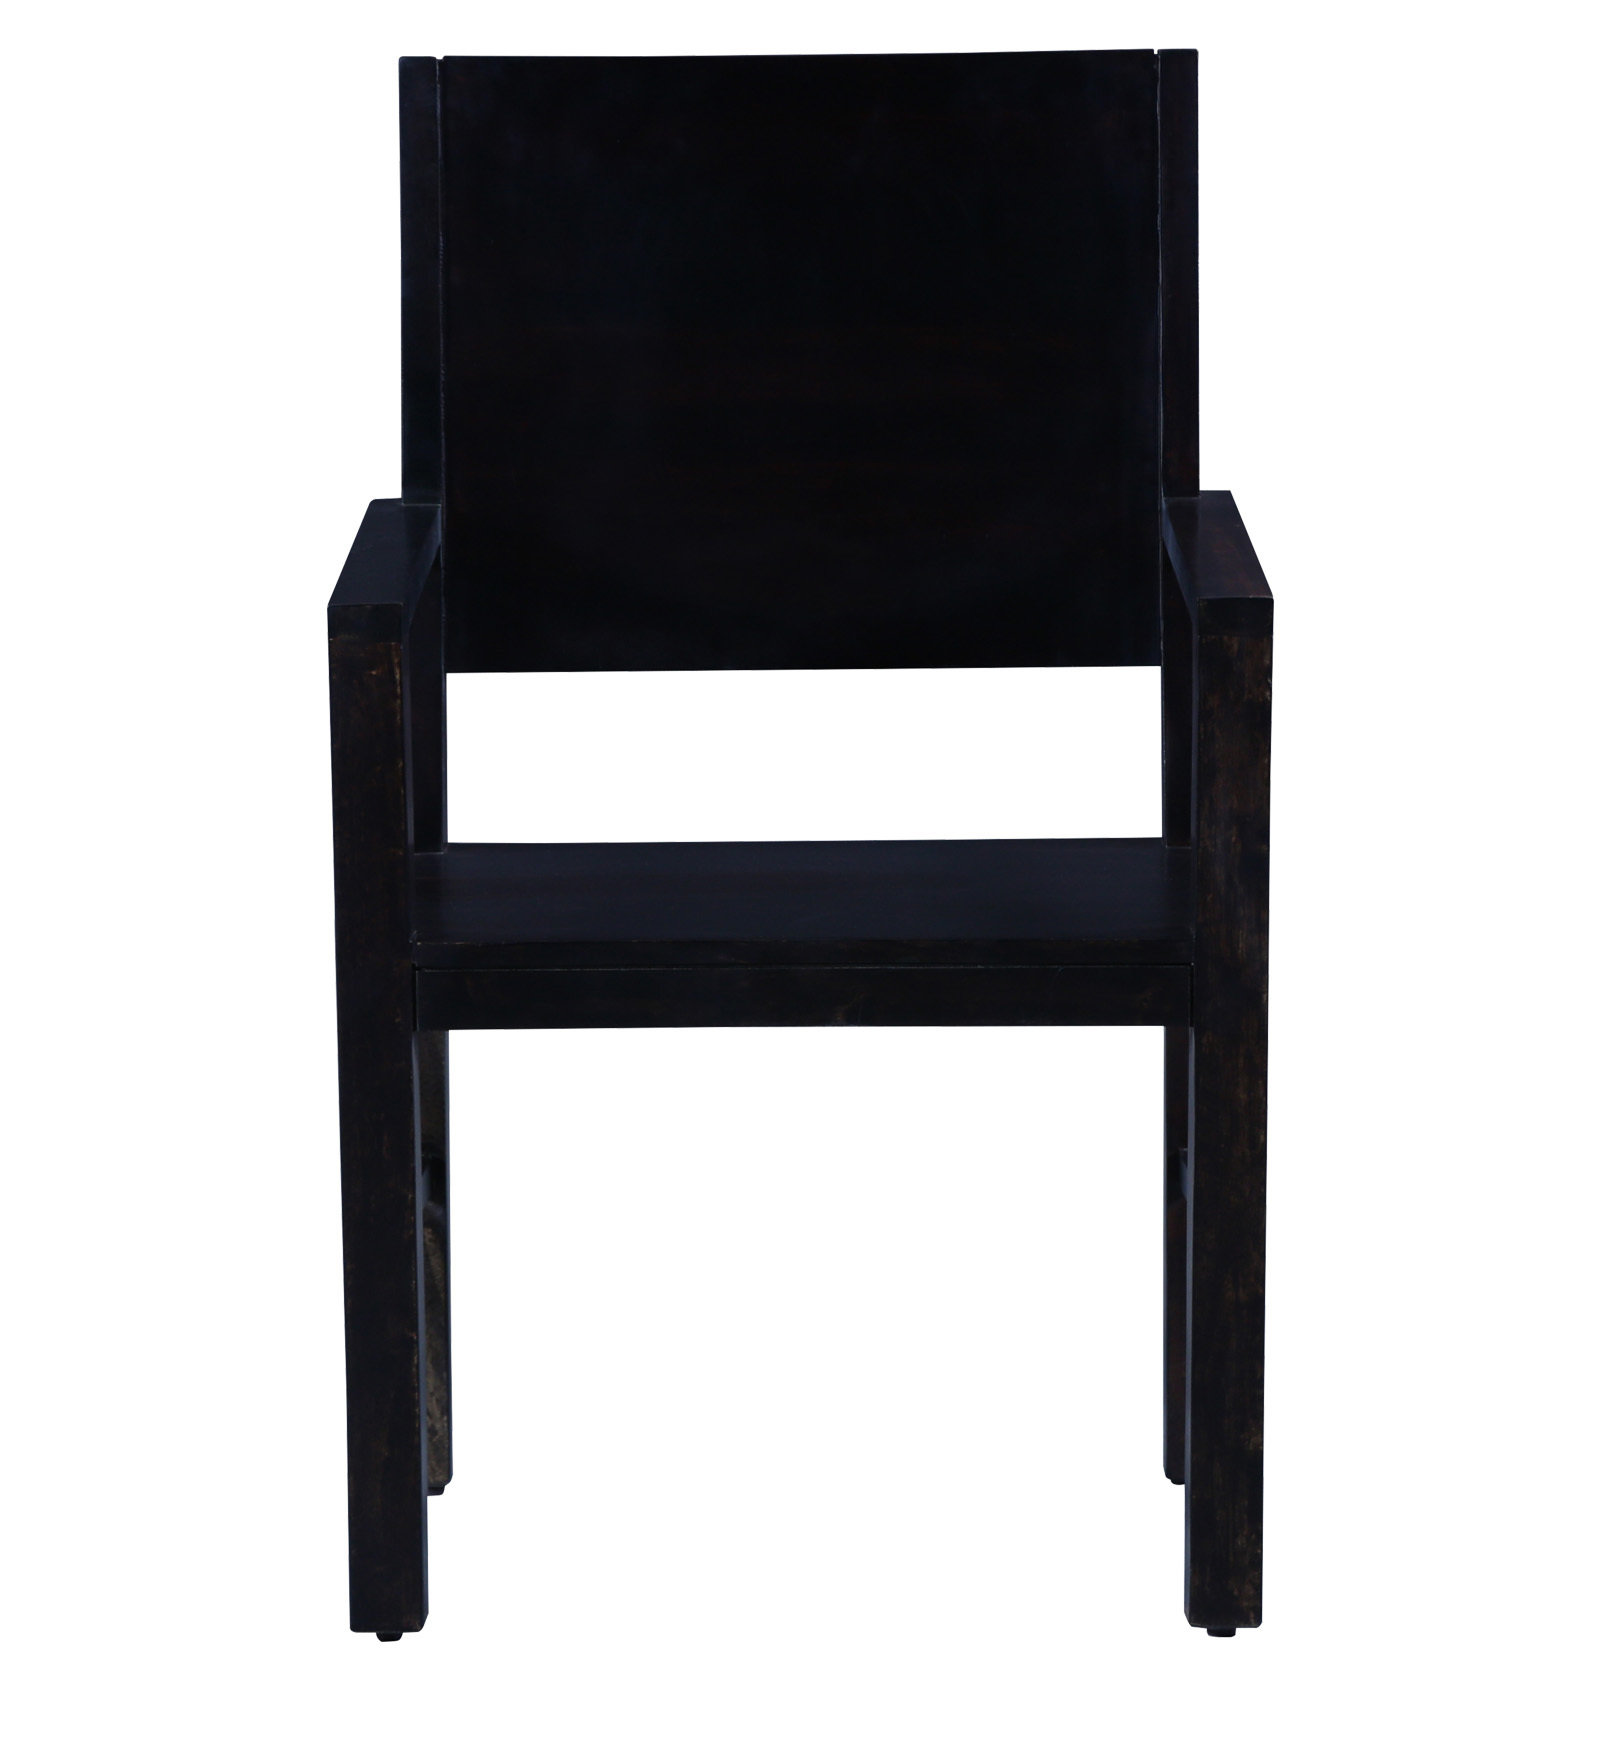Oriel Arm Chair in Warm Chestnut Finish by Woodsworth: (319, 35, 1290, 1645)
